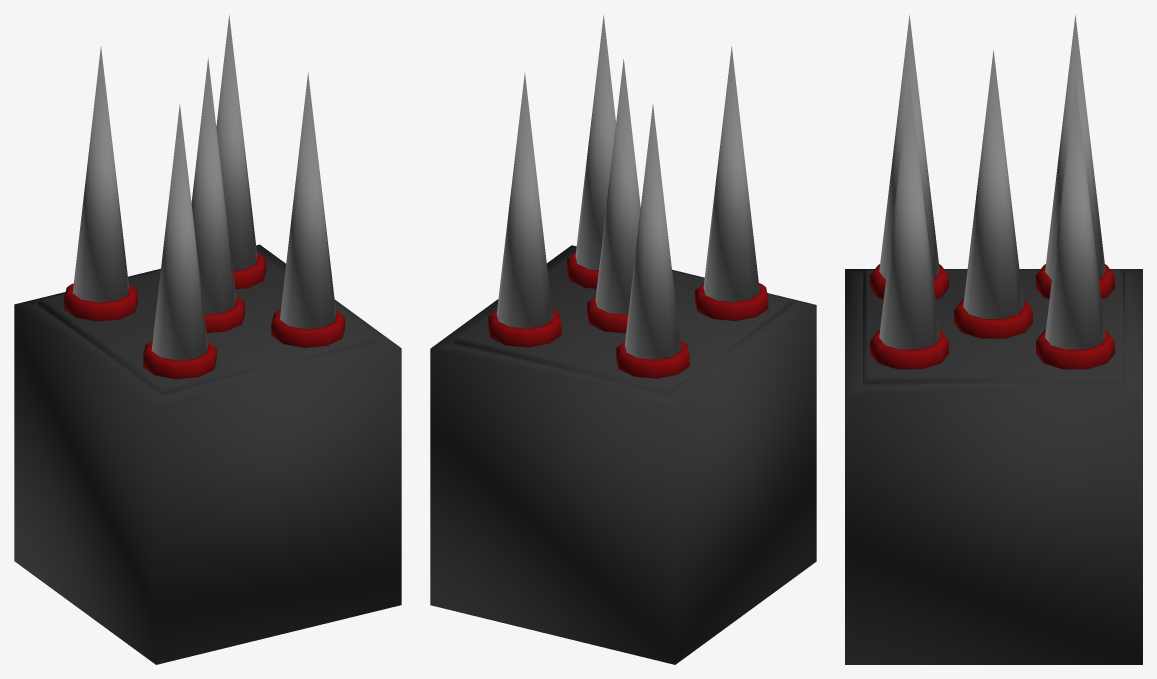
The model's file is pinxos.fbx.
3 renders of one model, left to right at view 1: azimuth 30°, elevation 25°; view 2: azimuth 150°, elevation 25°; view 3: azimuth 270°, elevation 25°, orthographic. The views are drawn at different scales.
Visible parts, largest first — view 1: Cube.001, Cone.002, Cone.004, Cone.003, Cone, Cone.001, Cylinder.002_Cylinder.003, Cylinder.003_Cylinder.004, Cylinder.004_Cylinder.005, Cylinder_Cylinder.001, Cylinder.001_Cylinder.002; view 2: Cube.001, Cone.001, Cone.002, Cone.004, Cone, Cone.003, Cylinder.001_Cylinder.002, Cylinder.002_Cylinder.003, Cylinder.004_Cylinder.005, Cylinder_Cylinder.001, Cylinder.003_Cylinder.004; view 3: Cube.001, Cone.001, Cone.003, Cone, Cone.004, Cone.002, Cylinder.001_Cylinder.002, Cylinder.003_Cylinder.004, Cylinder_Cylinder.001, Cylinder.002_Cylinder.003, Cylinder.004_Cylinder.005.
Boxes of the visible parts, bbox=[...] form: Cube.001: bbox=[14, 244, 401, 664]; Cone.002: bbox=[72, 47, 129, 302]; Cone.004: bbox=[151, 103, 207, 360]; Cone.003: bbox=[280, 72, 336, 328]; Cone: bbox=[191, 58, 236, 314]; Cone.001: bbox=[216, 15, 257, 270]; Cylinder.002_Cylinder.003: bbox=[64, 283, 137, 321]; Cylinder.003_Cylinder.004: bbox=[271, 310, 344, 347]; Cylinder.004_Cylinder.005: bbox=[143, 341, 216, 379]; Cylinder_Cylinder.001: bbox=[204, 296, 244, 332]; Cylinder.001_Cylinder.002: bbox=[233, 253, 265, 289]; Cube.001: bbox=[430, 245, 816, 664]; Cone.001: bbox=[496, 72, 552, 328]; Cone.002: bbox=[625, 104, 680, 359]; Cone.004: bbox=[703, 46, 759, 302]; Cone: bbox=[595, 59, 640, 314]; Cone.003: bbox=[575, 15, 615, 270]; Cylinder.001_Cylinder.002: bbox=[488, 309, 561, 347]; Cylinder.002_Cylinder.003: bbox=[616, 340, 689, 378]; Cylinder.004_Cylinder.005: bbox=[695, 283, 768, 320]; Cylinder_Cylinder.001: bbox=[587, 296, 628, 333]; Cylinder.003_Cylinder.004: bbox=[567, 252, 598, 288]; Cube.001: bbox=[845, 269, 1142, 664]; Cone.001: bbox=[1045, 80, 1105, 349]; Cone.003: bbox=[879, 81, 939, 349]; Cone: bbox=[963, 50, 1023, 318]; Cone.004: bbox=[879, 15, 939, 279]; Cone.002: bbox=[1045, 15, 1105, 279]; Cylinder.001_Cylinder.002: bbox=[1036, 330, 1114, 369]; Cylinder.003_Cylinder.004: bbox=[870, 330, 948, 369]; Cylinder_Cylinder.001: bbox=[954, 299, 1032, 338]; Cylinder.002_Cylinder.003: bbox=[1036, 264, 1114, 299]; Cylinder.004_Cylinder.005: bbox=[870, 264, 948, 299].
Size of the model in its own units: 200 by 410 by 200.
